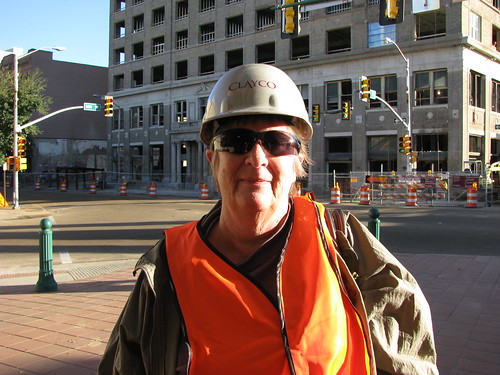person hardhat: (104, 63, 443, 373)
